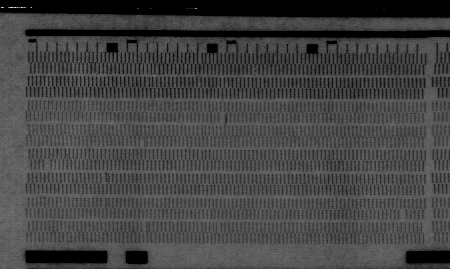Broken hole: (429, 85, 440, 100), (41, 159, 53, 172), (397, 209, 408, 221), (219, 113, 228, 126)
Oblique printing: (140, 221, 152, 234), (250, 64, 261, 76), (138, 136, 148, 149), (99, 173, 110, 184)
